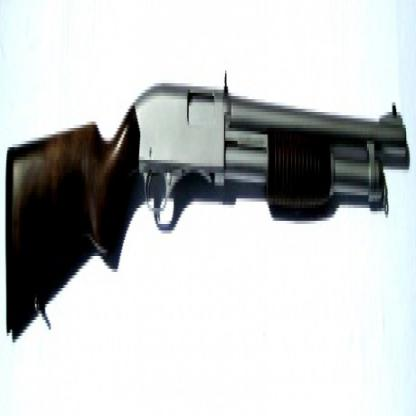Guns: (1, 58, 411, 348)
